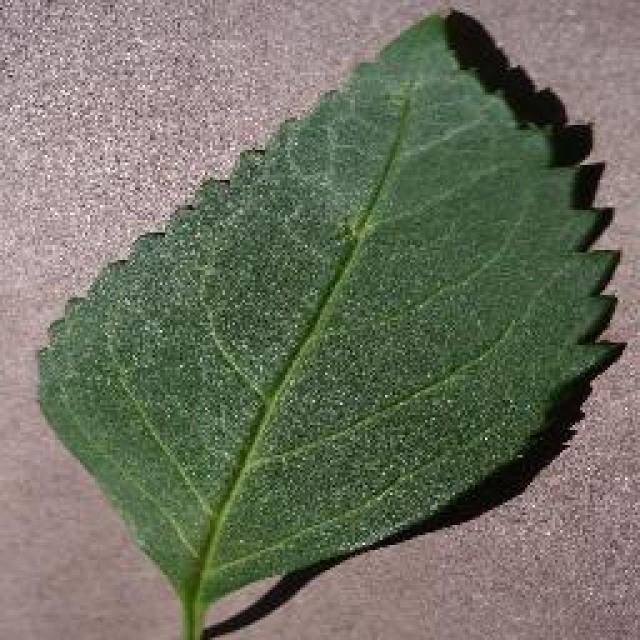Cherry___healthy: (20, 8, 632, 638)
